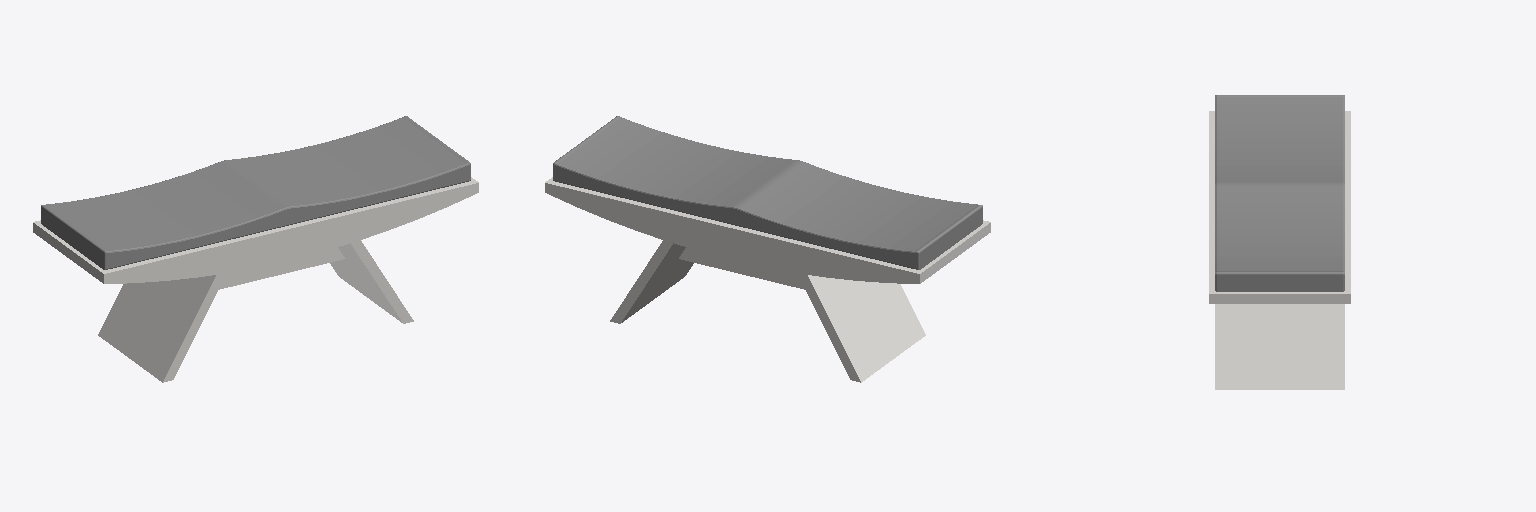
The model's file is banca.obj.
The picture shows the model from 3 angles: view 1: azimuth 30°, elevation 25°; view 2: azimuth 150°, elevation 25°; view 3: azimuth 270°, elevation 25°; orthographic projection.
Parts seen in each view (by area): view 1: Group_002, Group_003, Group_001; view 2: Group_002, Group_003, Group_001; view 3: Group_002, Group_003, Group_001.
Part boxes in pixels (x1,y1,x2,y2): Group_002: (41, 116, 470, 269); Group_003: (98, 240, 413, 382); Group_001: (33, 177, 478, 283); Group_002: (553, 116, 982, 269); Group_003: (610, 240, 925, 382); Group_001: (545, 177, 990, 283); Group_002: (1215, 95, 1344, 291); Group_003: (1215, 304, 1344, 389); Group_001: (1209, 111, 1350, 303).
Bounding box in the file's own units: 55.12 × 20.33 × 18.11.